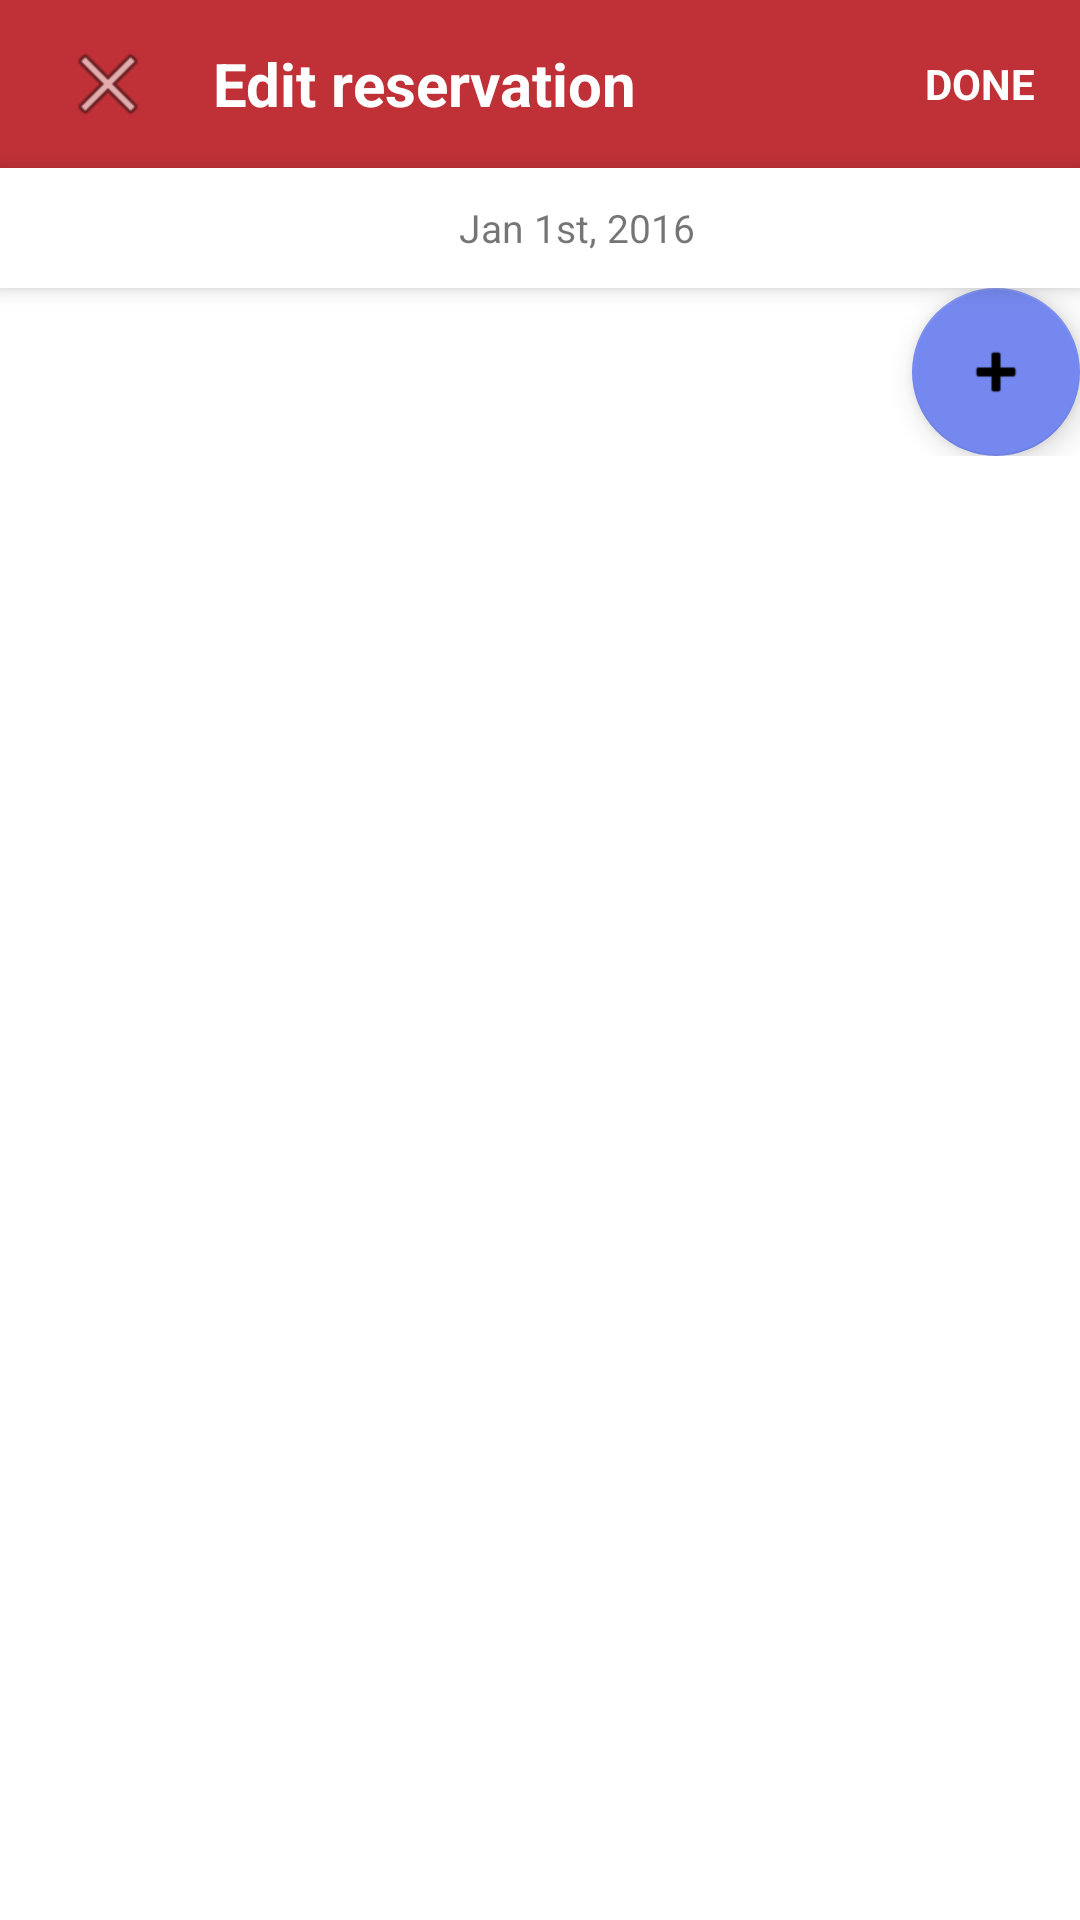

Icons on this 1080 × 1920 Android screen, each with the point to tap as point (x, y):
add: point (996, 372)
close clear cancel: point (108, 84)
